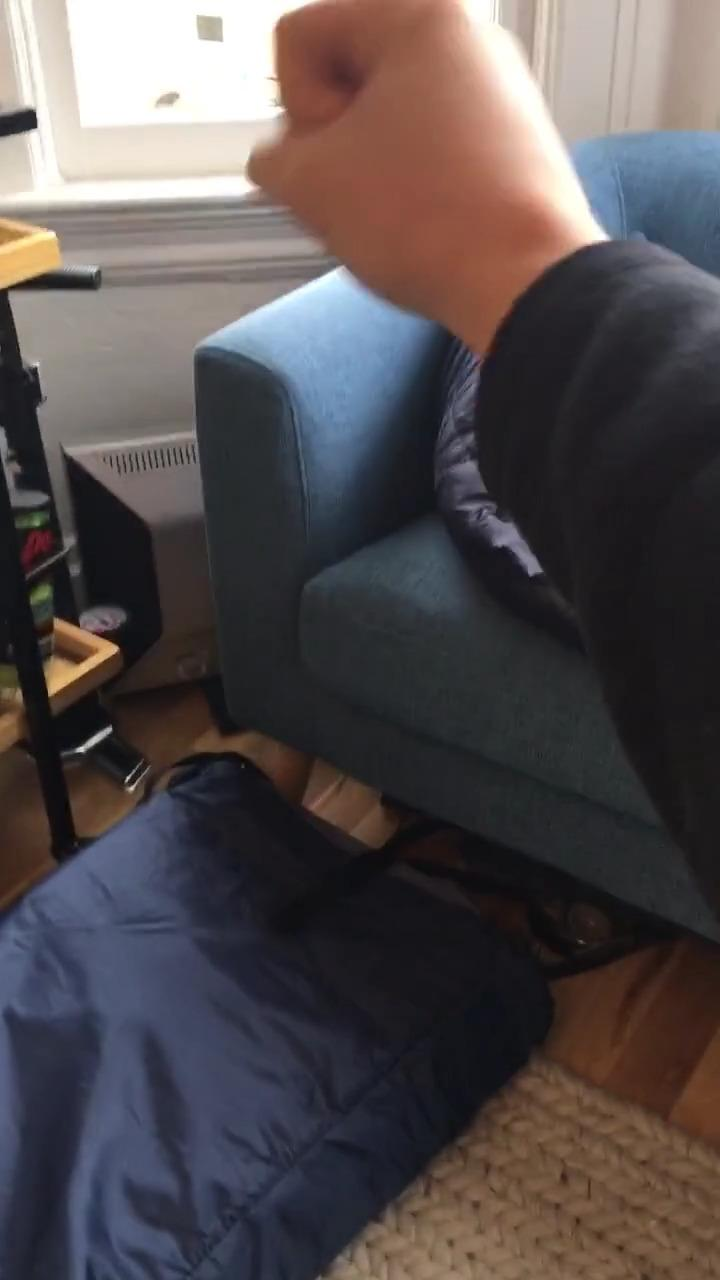Rock: (238, 0, 589, 331)
